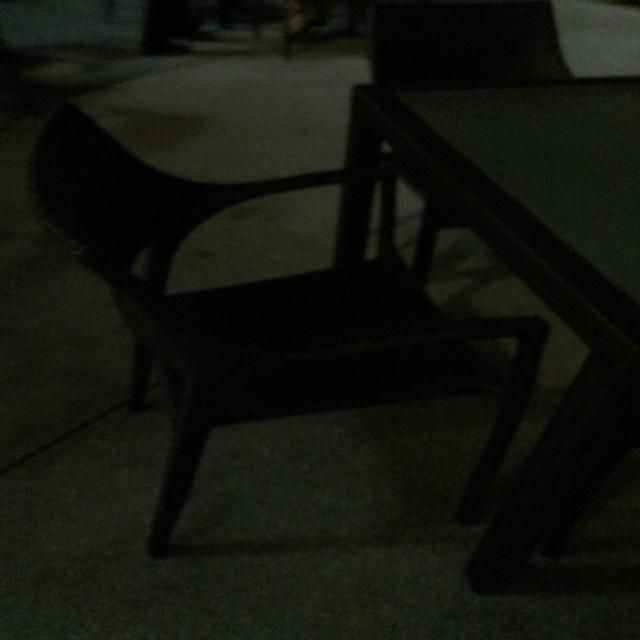Table: (372, 83, 640, 540)
chair: (29, 104, 419, 565), (359, 0, 599, 110)
